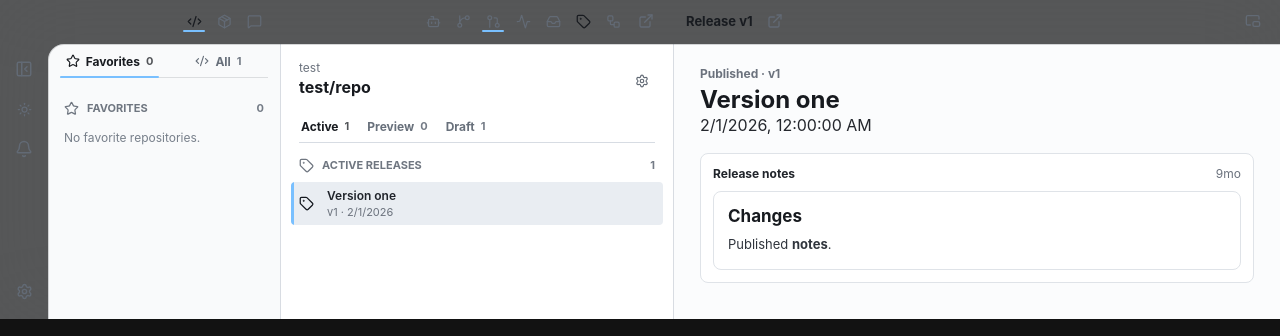
Test: opens Releases by shortcut, reads notes with keyboard selection, switches drafts, and refreshes in light
Later steps or results of the test are not shown.
Expected: the element named "Release view" is shown, [299,109,655,143]
Expected: the text with class "focus-title" reads "Version one", [327,188,396,203]
Click the button named "Copy content GitHub URL. Double-click to open in GitHub".
click(775, 21)  # box [761,7,789,35]
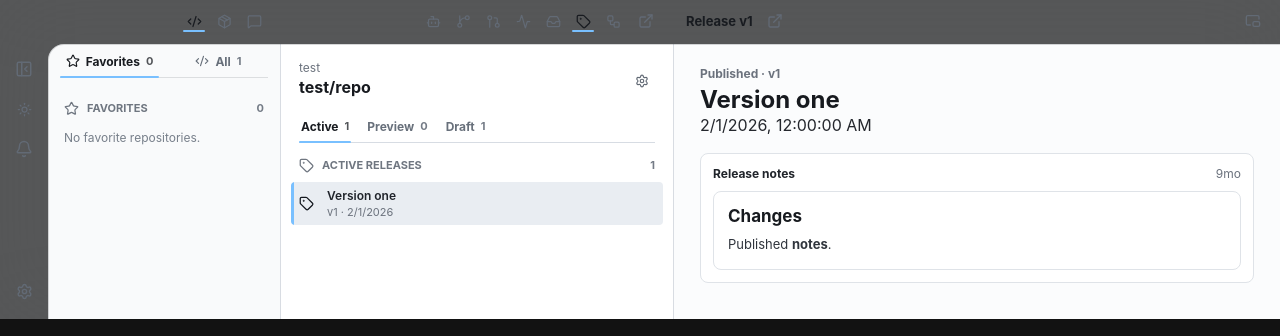
Click the tab "Draft 1".
click(466, 126)  # box [444,109,487,143]
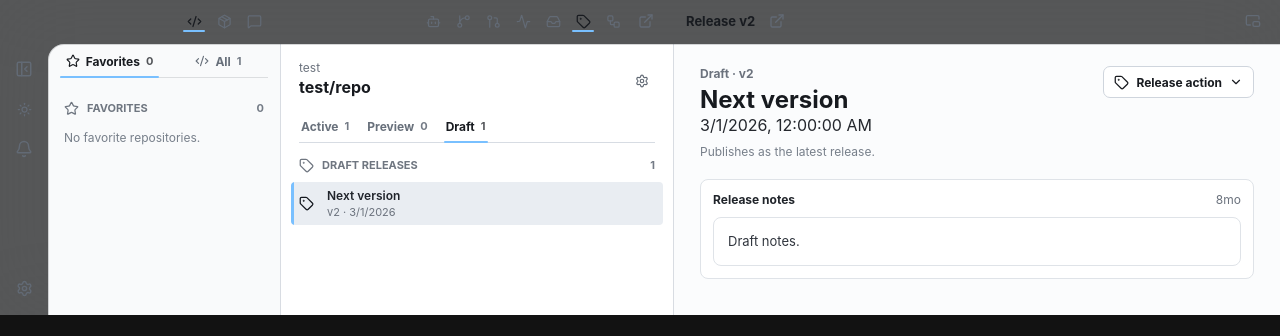
Result: the heading "Next version" is shown at [700,85,848,114]
Result: the element with class "markdown-block" reads "Draft notes." at [728,233,800,249]
